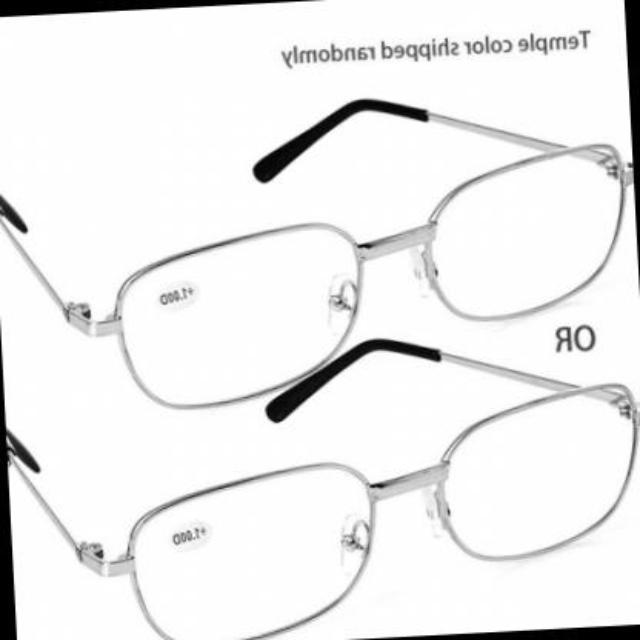glasses: (2, 99, 625, 409), (10, 369, 638, 639)
